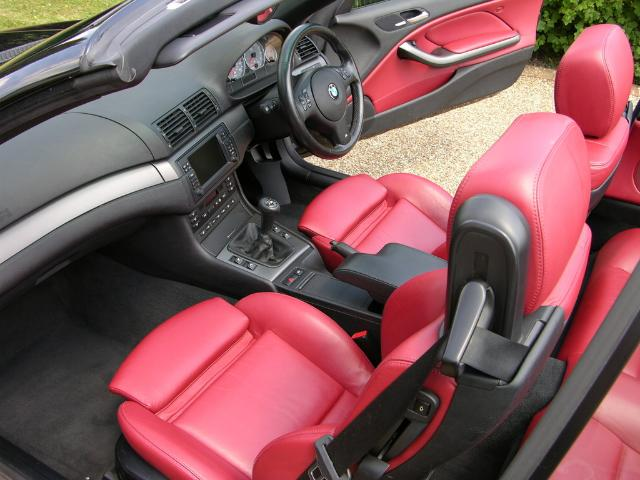Seatbelt: (296, 324, 534, 480)
